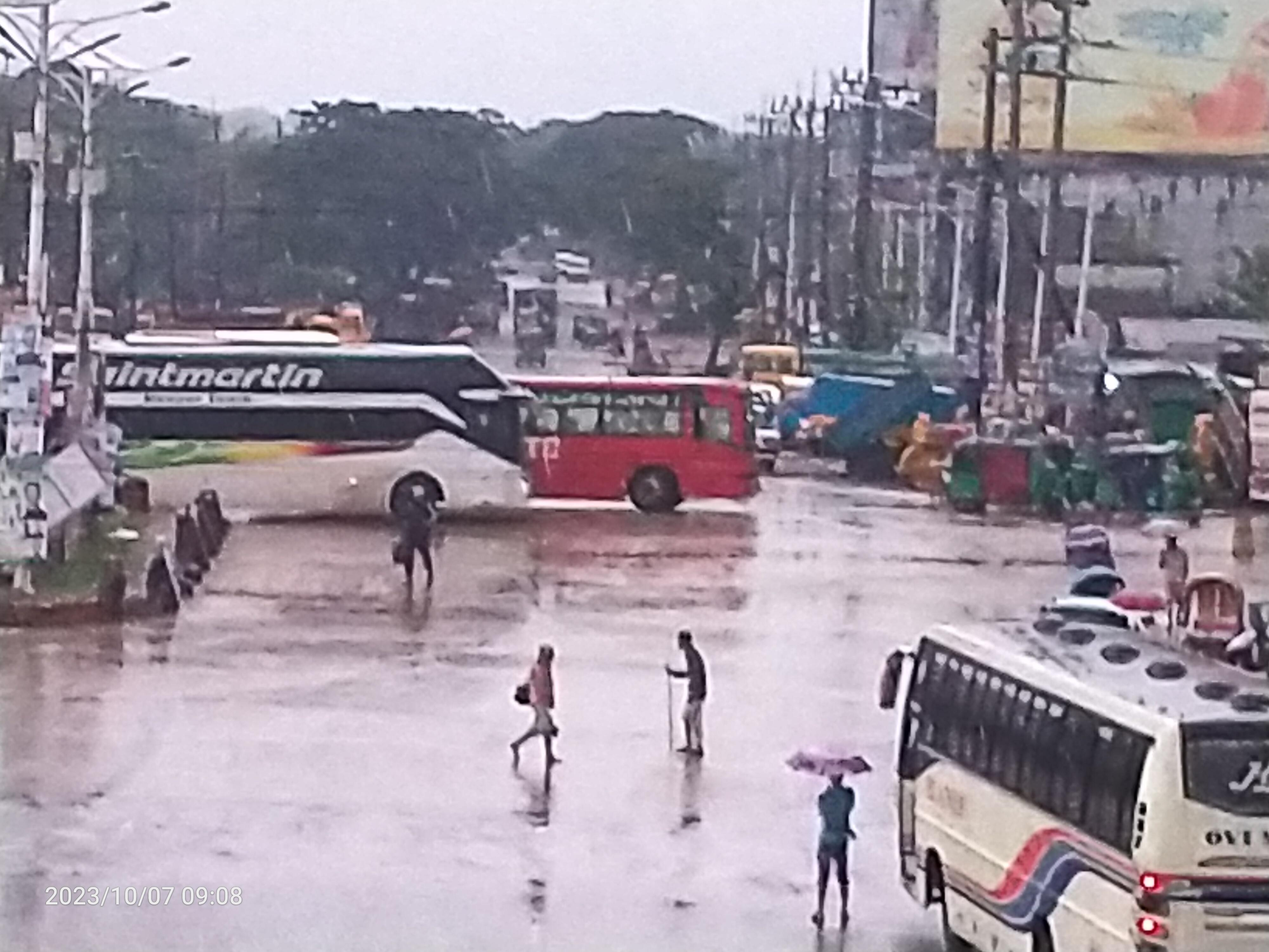Bus: (849, 571, 1269, 952), (0, 327, 571, 556), (479, 356, 779, 544)
